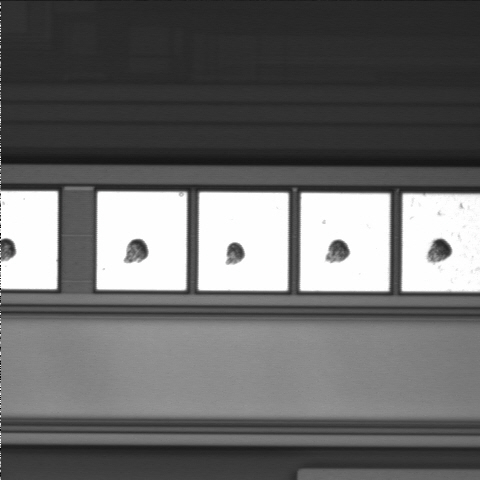pad: (198, 192, 288, 291), (97, 192, 187, 290), (300, 193, 390, 291)
